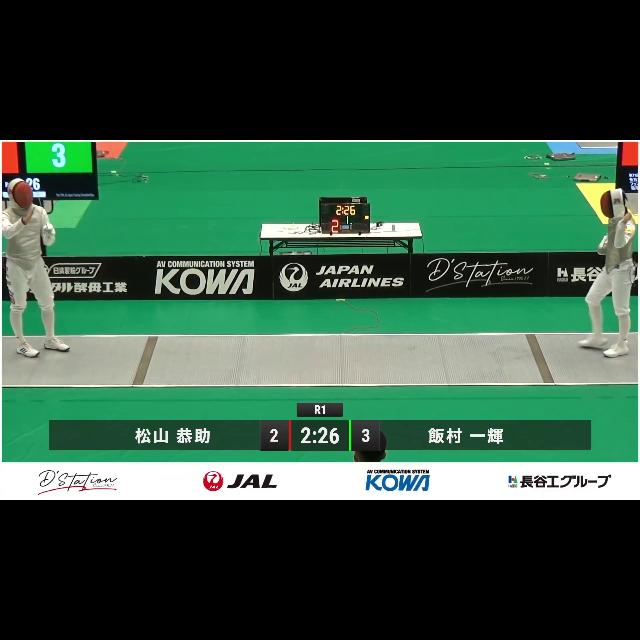blade: (29, 170, 60, 232), (594, 215, 628, 258)
